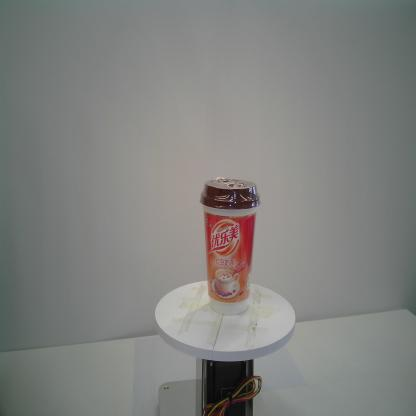Instant Drink: (200, 178, 260, 317)
